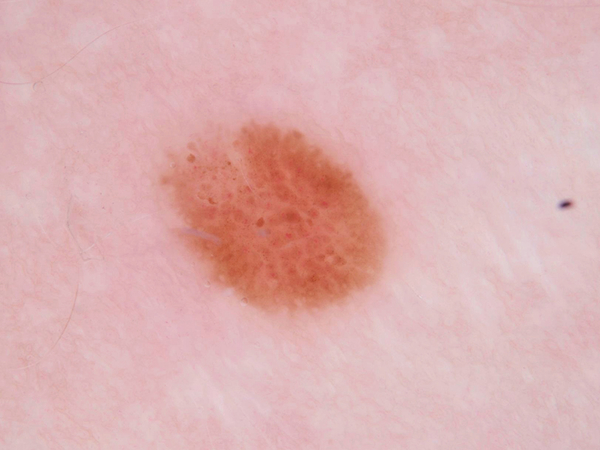Detected Lesion: (157, 116, 388, 323)
